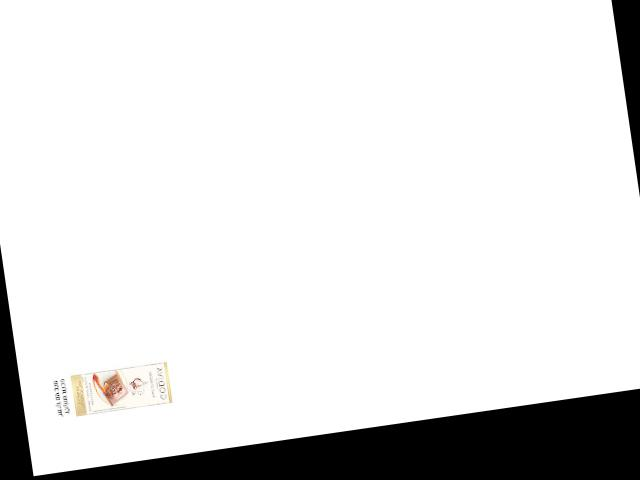chocolate: (66, 358, 174, 416)
